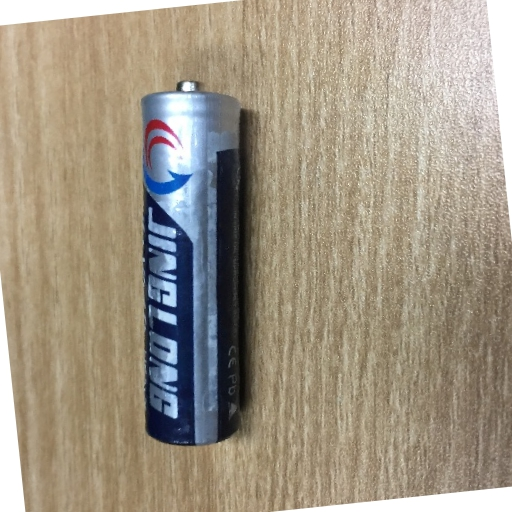Battery_0: (128, 69, 275, 463)
